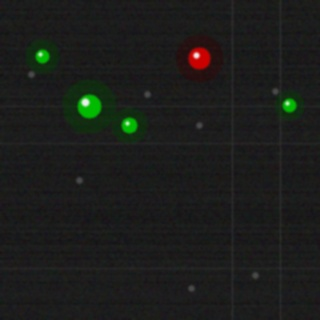green_normal: (75, 92, 103, 120), (119, 115, 139, 135), (33, 47, 51, 65), (280, 96, 298, 114)
red_fault: (186, 45, 212, 71)
